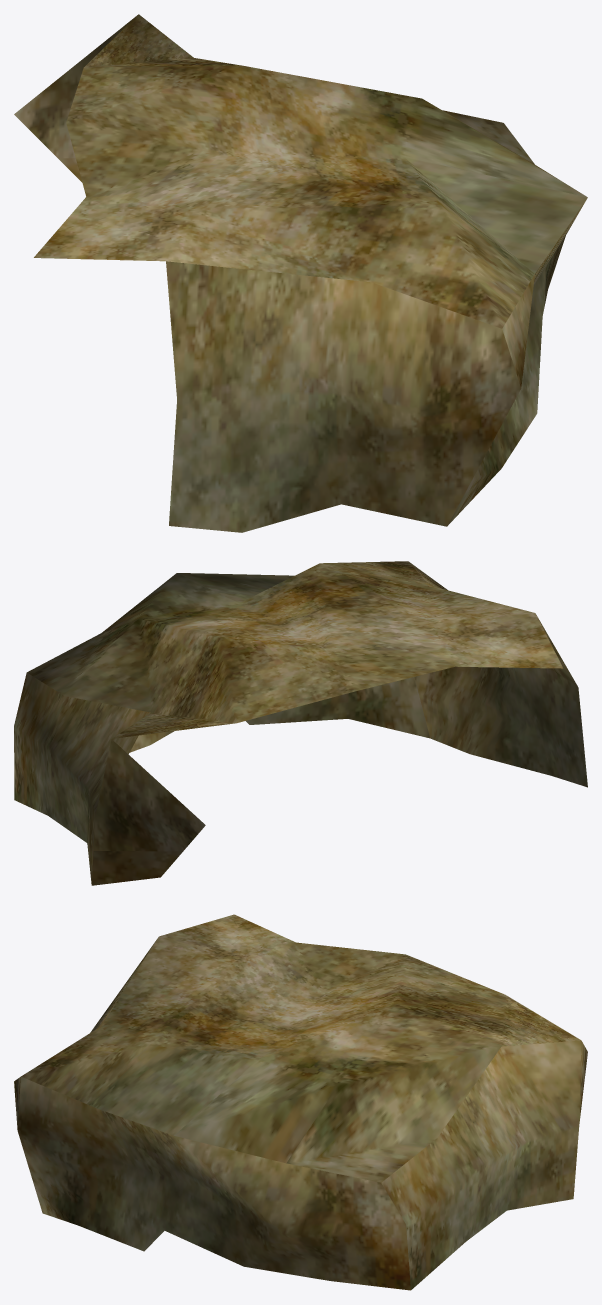
Rendered from TROLLHOLE02_RM_PSURF207.fbx.
3 views of the same model, one above another, from view 1: azimuth 30°, elevation 25°; view 2: azimuth 150°, elevation 25°; view 3: azimuth 270°, elevation 25° (orthographic). The views are drawn at different scales.
Visible parts, largest first — view 1: TROLLHOLE02_RM_PSURF207; view 2: TROLLHOLE02_RM_PSURF207; view 3: TROLLHOLE02_RM_PSURF207.
Part boxes in pixels (x1,y1,x2,y2): TROLLHOLE02_RM_PSURF207: [14, 14, 587, 532]; TROLLHOLE02_RM_PSURF207: [14, 561, 587, 885]; TROLLHOLE02_RM_PSURF207: [14, 914, 587, 1290].
Bounding box in the file's own units: 18349 × 8832 × 20966.
Materials: 1 (1 with a texture image).
